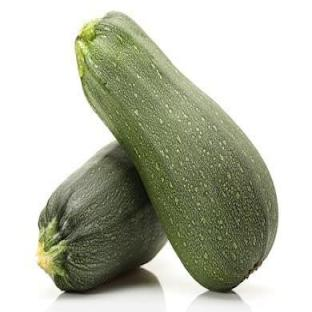Zucchini: (76, 12, 277, 290), (38, 143, 166, 291)
